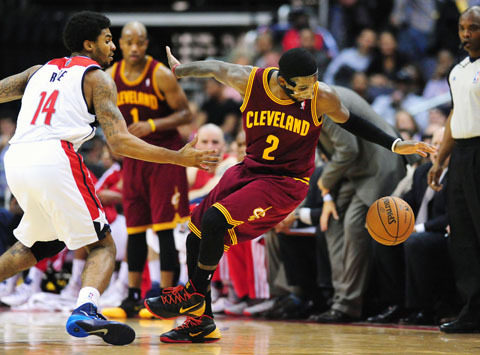basketball: (364, 194, 416, 247)
